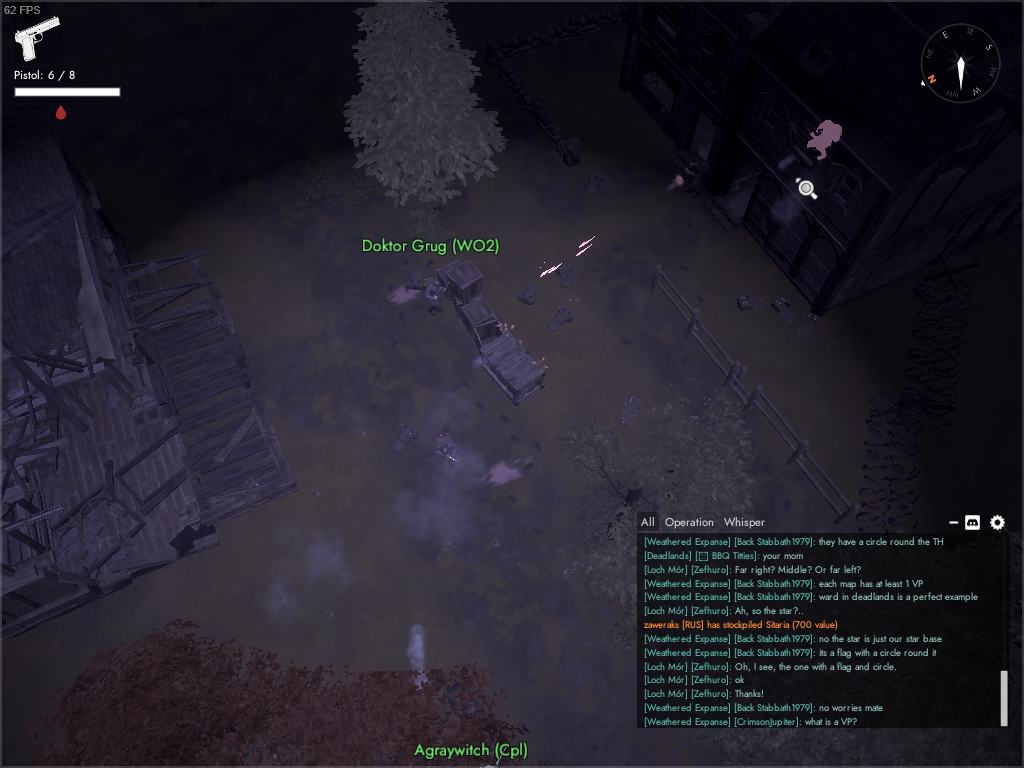backpack: (615, 391, 646, 430), (386, 423, 421, 457), (792, 309, 823, 345), (549, 258, 579, 294), (543, 302, 575, 335), (767, 295, 798, 328), (514, 278, 542, 309), (734, 289, 768, 313), (581, 167, 609, 196)
colonial: (801, 113, 844, 163), (670, 154, 710, 202)
player: (427, 428, 462, 468), (421, 278, 453, 319), (476, 741, 509, 768)
